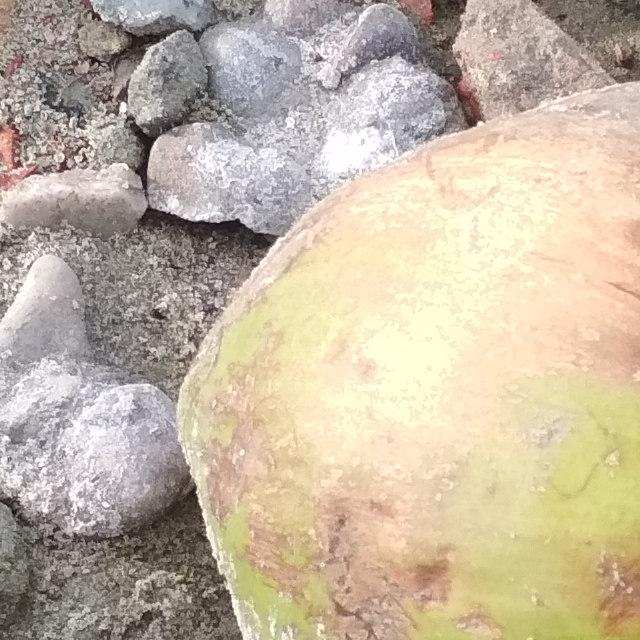food_waste: (88, 35, 640, 640)
